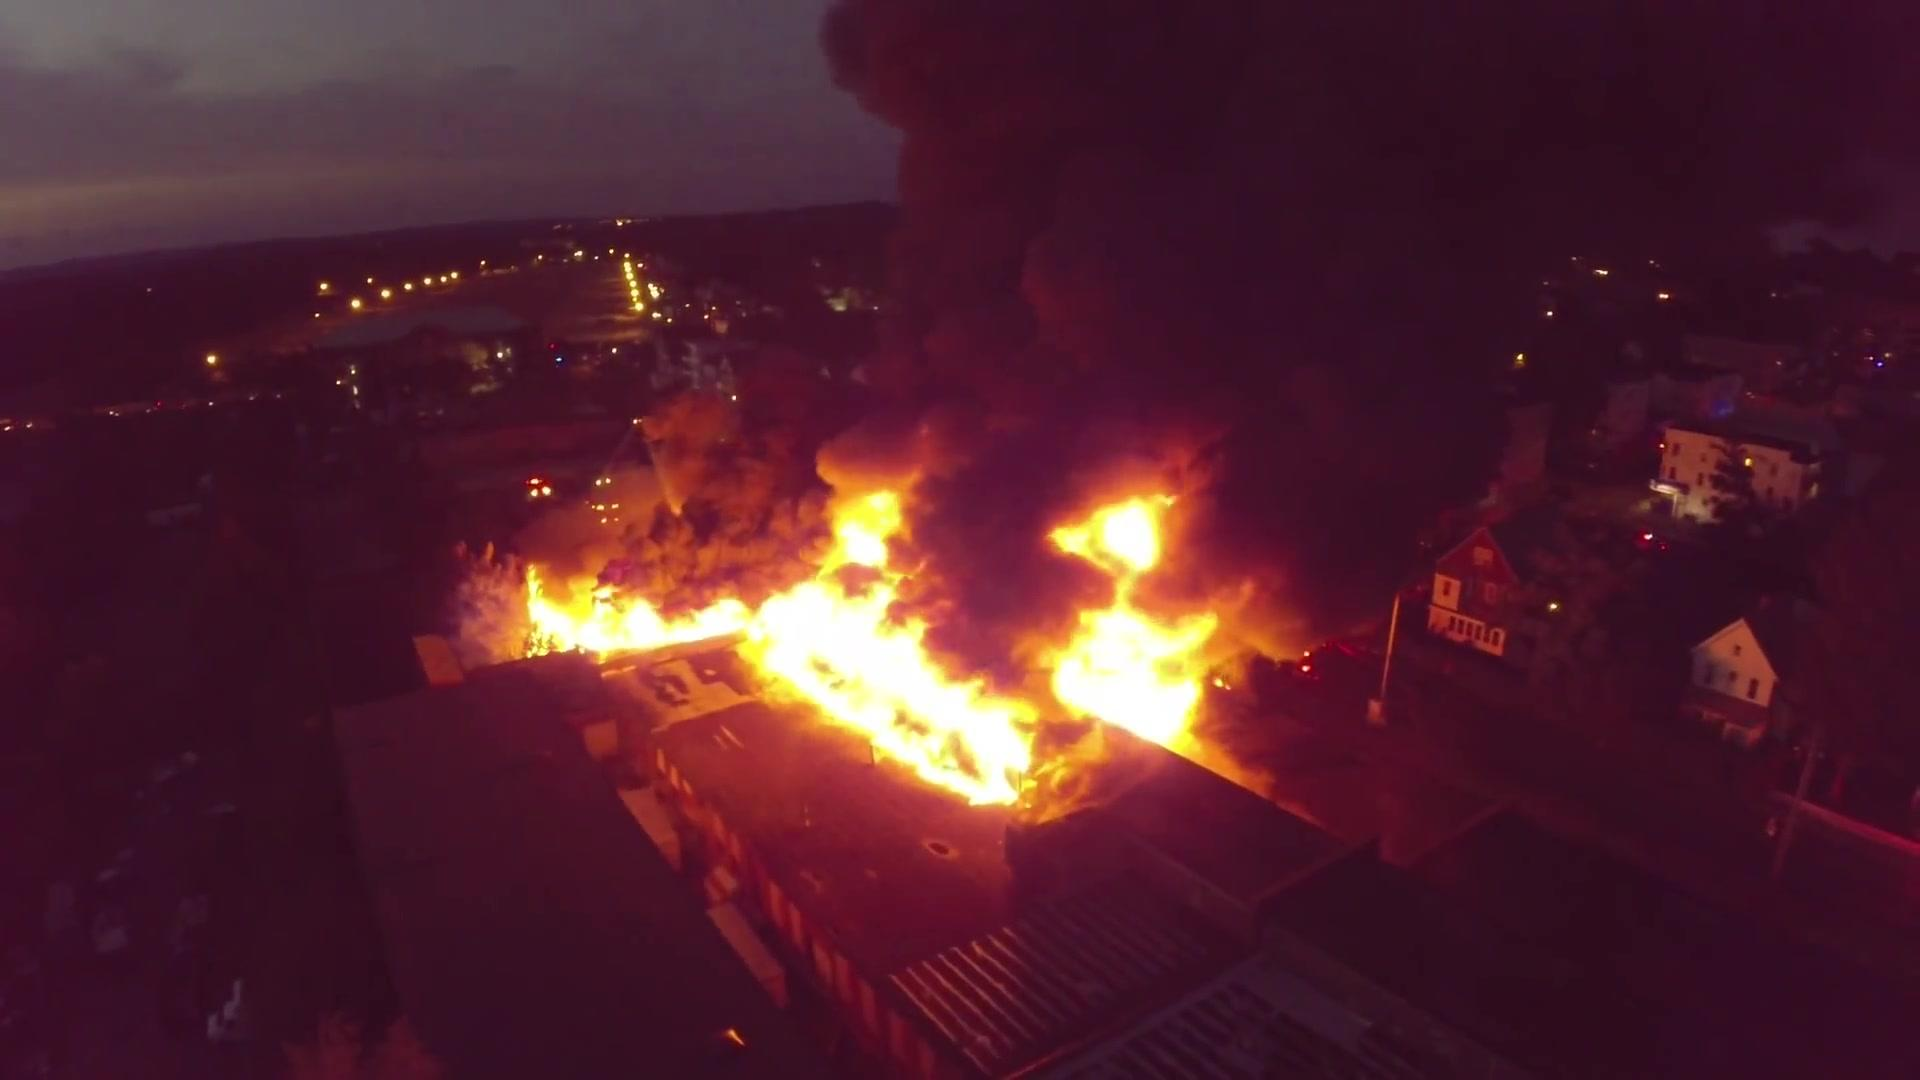fire: (770, 516, 930, 775), (1065, 530, 1201, 764)
smoke: (923, 21, 1585, 465)
